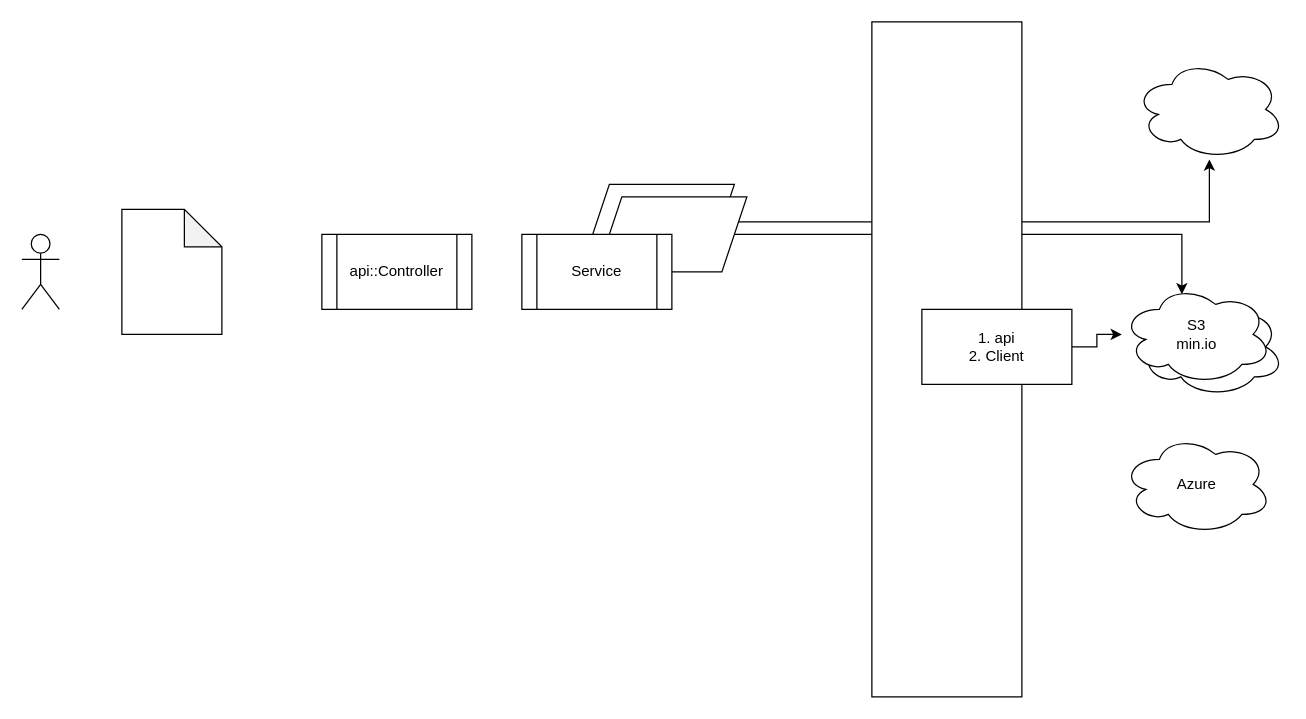
This 1306x719 diagram has some shape labels left out. Each missing label, with the centre of its shape:
"Actor" goes at (40,271).
"file" goes at (171,271).
"FileSystem" goes at (1208,108).
